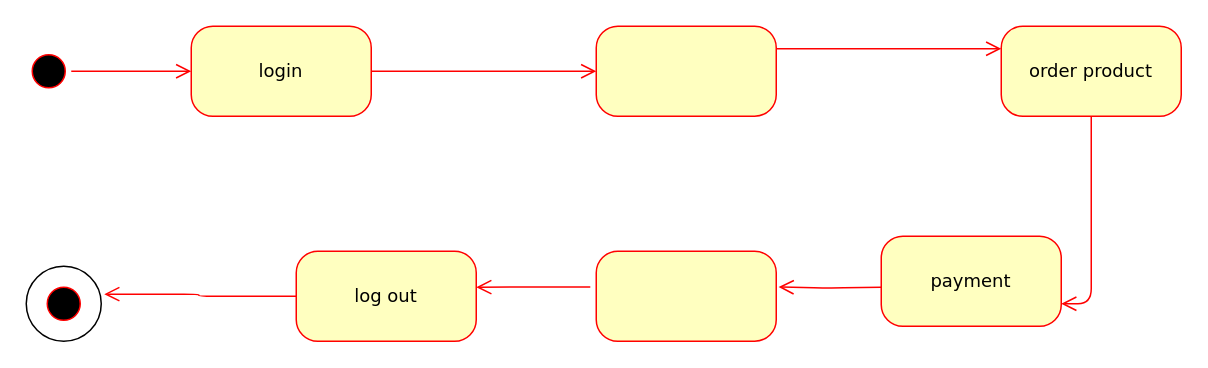
The diagram is 1208 pixels wide and 368 high, and some of its shapes have lost their labels. The centre of each missing label's shape, as x and y in pixels:
"delivery" belongs at (x=685, y=295).
"view product" belongs at (x=685, y=70).
